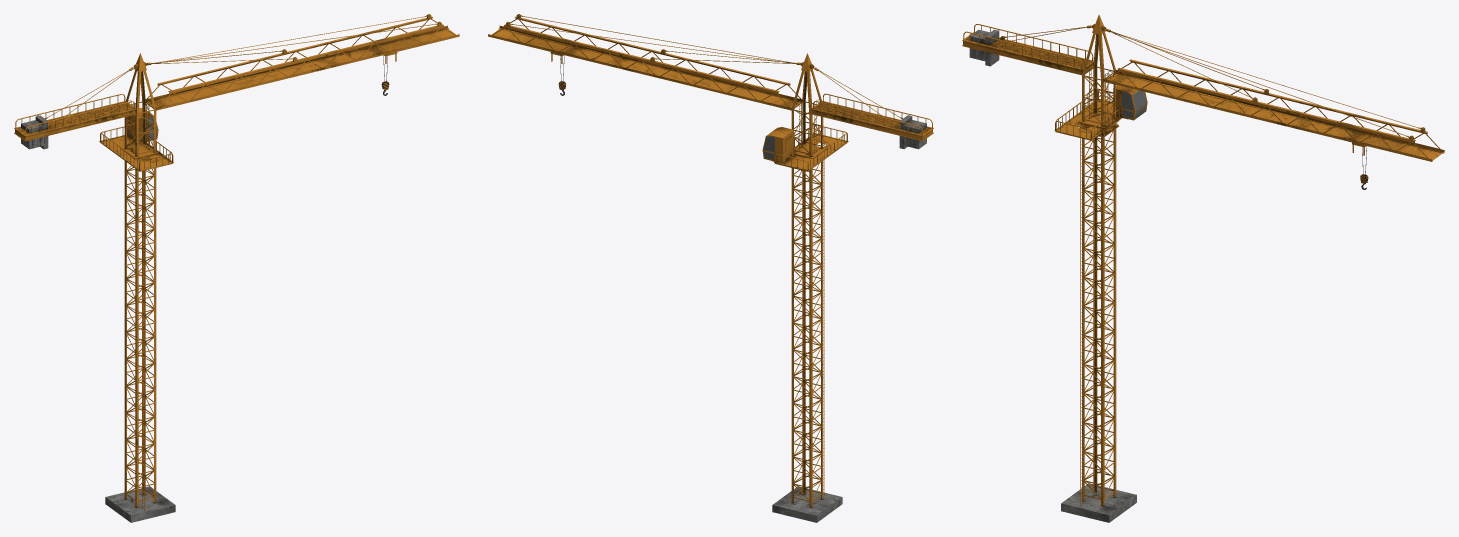
Rendered from crane.glb.
The picture shows the model from 3 angles, left to right: view 1: azimuth 30°, elevation 25°; view 2: azimuth 150°, elevation 25°; view 3: azimuth 330°, elevation 25°; orthographic projection. The views are drawn at different scales.
Parts seen in each view (by area): view 1: Cube.052, Cube.055, Plane.023, Cube.073, Cube.053, Cube.054, Cube.056, Cube.101, Plane.029, Cube.074; view 2: Cube.052, Cube.055, Plane.023, Cube.073, Cube.053, Cube.054, Cube.056, Cube.101, Cube.072, Cube.075, Cube.074; view 3: Cube.052, Cube.055, Plane.023, Cube.073, Cube.053, Cube.054, Cube.056, Plane.029, Cube.074, Cube.101, Cube.075.
Boxes of the visible parts, x1,y1,x2,y2 form: Cube.052: (124,161,156,507); Cube.055: (145,16,459,110); Plane.023: (147,29,455,107); Cube.073: (105,486,175,522); Cube.053: (124,70,156,156); Cube.054: (14,101,136,141); Cube.056: (16,101,134,134); Cube.101: (102,136,171,169); Plane.029: (137,155,144,510); Cube.074: (138,175,153,501); Cube.052: (791,161,823,507); Cube.055: (488,16,802,110); Plane.023: (491,29,800,107); Cube.073: (772,486,842,522); Cube.053: (791,70,823,156); Cube.054: (811,100,933,141); Cube.056: (814,101,931,134); Cube.101: (776,134,845,169); Cube.072: (762,127,794,163); Cube.075: (794,175,809,501); Cube.074: (804,169,821,493); Cube.052: (1082,129,1116,506); Cube.055: (1103,59,1444,161); Plane.023: (1106,73,1442,160); Cube.073: (1061,483,1136,522); Cube.053: (1082,32,1116,126); Cube.054: (962,32,1094,75); Cube.056: (965,36,1092,68); Plane.029: (1075,120,1083,505); Cube.074: (1084,136,1100,499); Cube.101: (1057,100,1118,138); Cube.075: (1095,137,1114,490).
Size of the model in its own units: 51.5 by 51.61 by 8.28.
7 materials, 7 textured.
